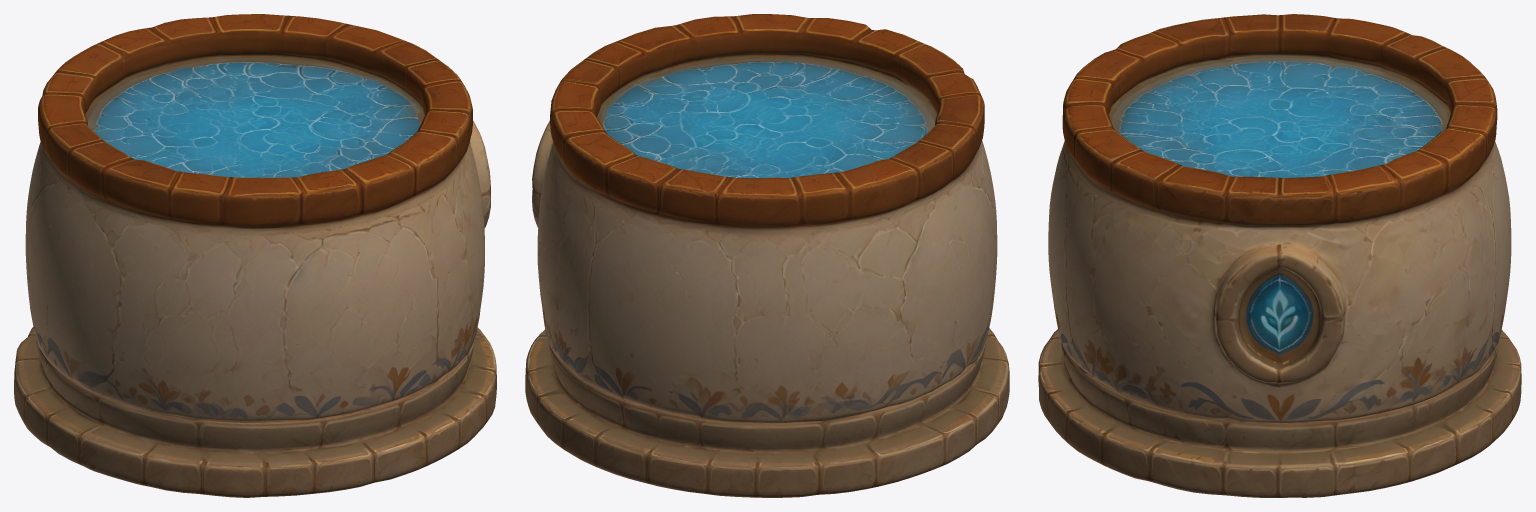
File: 01-lumen-village-well-tripo.glb
The picture shows the model from 3 angles, left to right: view 1: azimuth 30°, elevation 25°; view 2: azimuth 150°, elevation 25°; view 3: azimuth 270°, elevation 25°; orthographic projection.
Parts seen in each view (by area): view 1: tripo_node_201eb274; view 2: tripo_node_201eb274; view 3: tripo_node_201eb274.
Boxes of the visible parts, box(x1,y1,x2,y2) form: tripo_node_201eb274: box(14, 14, 496, 497); tripo_node_201eb274: box(525, 14, 1009, 497); tripo_node_201eb274: box(1038, 14, 1521, 497).
Size of the model in its own units: 1.67 by 1.2 by 1.67.
Materials: 1 (1 with a texture image).
